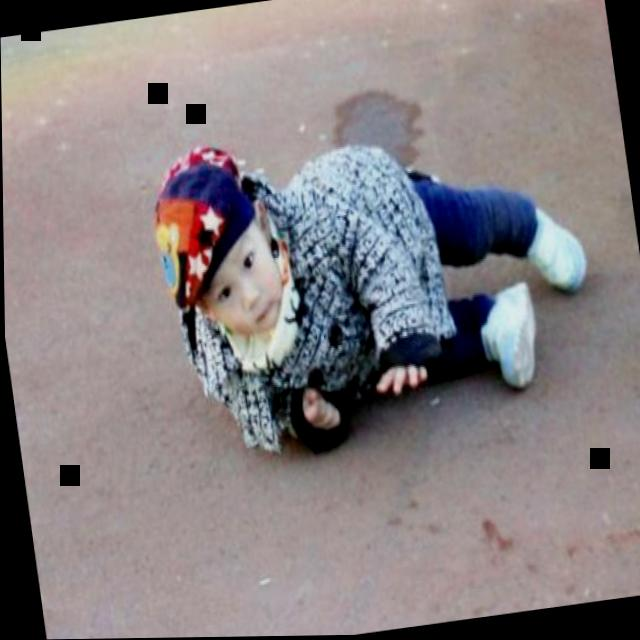Fall-Detected: (124, 34, 597, 501)
